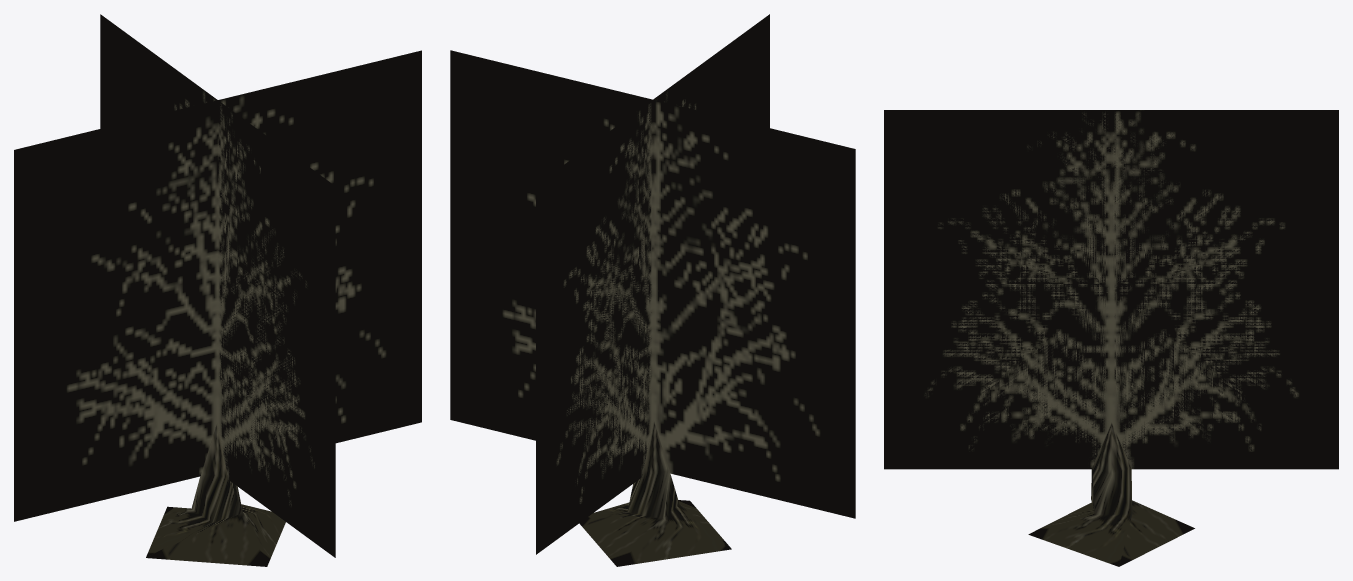
Rendered from oak2dead.glb.
3 views of the same model, side by side, from view 1: azimuth 30°, elevation 25°; view 2: azimuth 150°, elevation 25°; view 3: azimuth 270°, elevation 25° (orthographic). The views are drawn at different scales.
Visible parts, largest first — view 1: Box02; view 2: Box02; view 3: Box02.
Boxes of the visible parts, box(x1,y1,x2,y2) form: Box02: box(14, 14, 421, 566); Box02: box(450, 14, 855, 566); Box02: box(884, 110, 1338, 566).
Size of the model in its own units: 11.86 by 12.13 by 11.86.
Materials: 1 (1 with a texture image).
